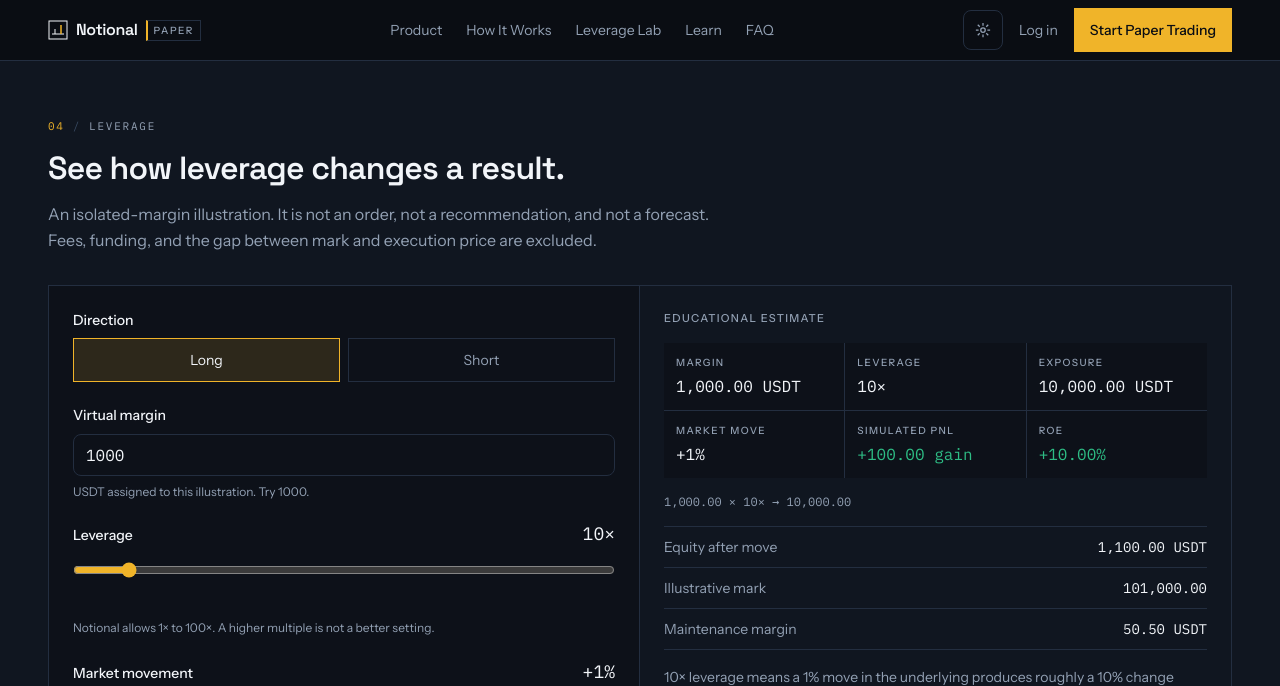
landing page › recalculates the leverage lab for direction and an adverse move
The image size is (1280, 686).
(page scrolled)
Check: the element "estimate" shows "+100.00", box [857,444,972,464]
Check: the element "estimate" shows "10,000.00", box [786,494,851,509]
Click the radio button labelled "Short" at [482, 360], box [348,338,615,382]
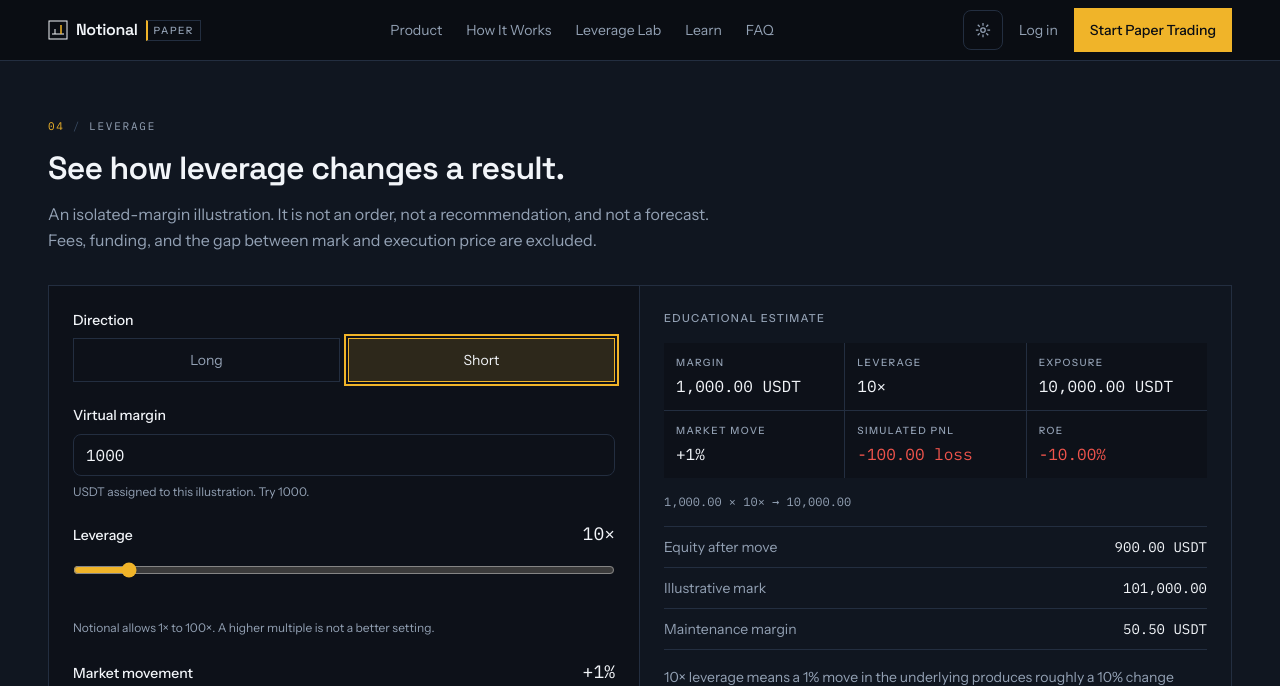
Check: the element "estimate" shows "-100.00", box [857,444,972,464]
Click the radio button labelled "Long" at [206, 360], box [73,338,340,382]
(page scrolled)
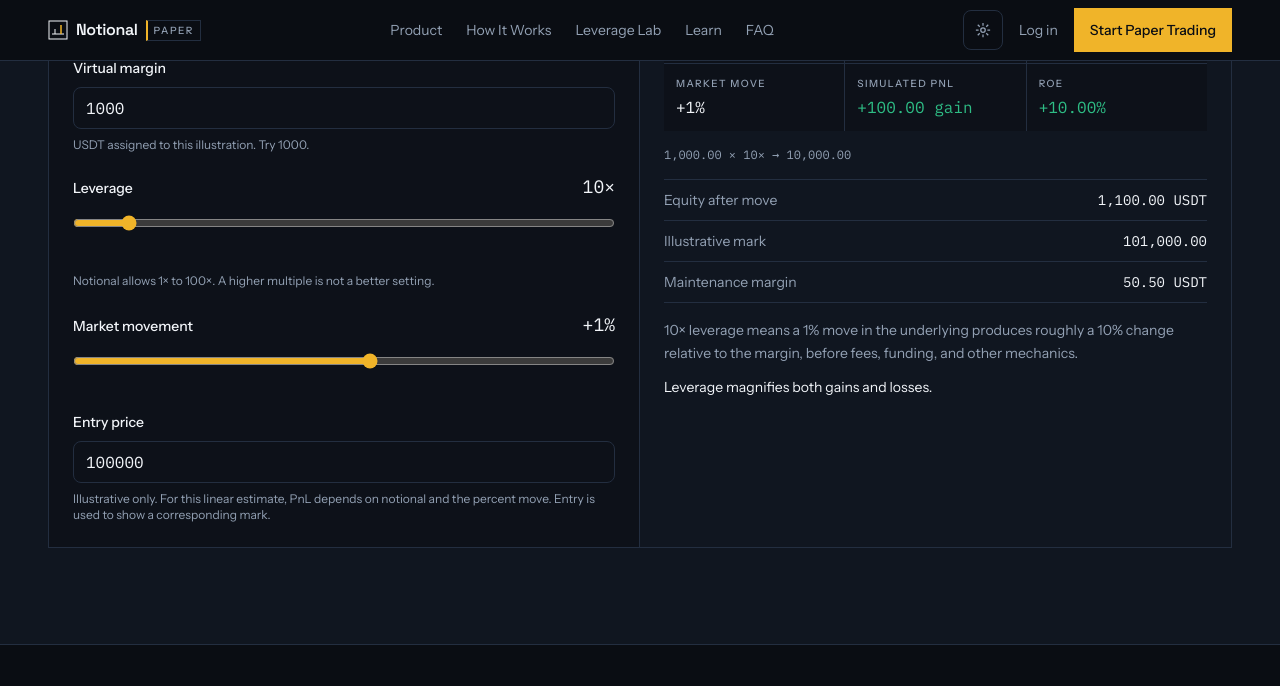
Set the slider labelled "Market movement" to "-10" at [344, 361], box [73,339,615,383]
(page scrolled)
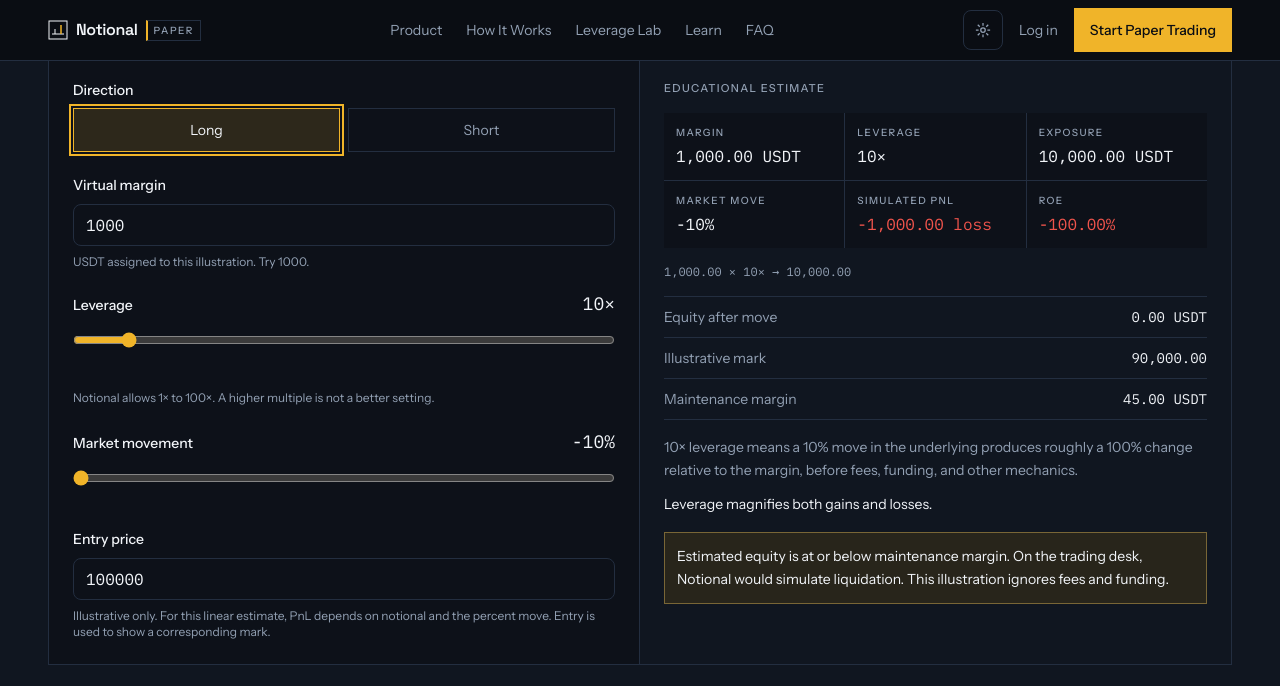
Check: the element "estimate" shows "-1,000.00", box [857,214,992,234]
Check: the element "estimate" shows "at or below maintenance margin", box [677,547,1169,588]
